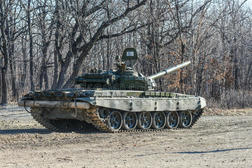t72: (21, 58, 206, 131)
